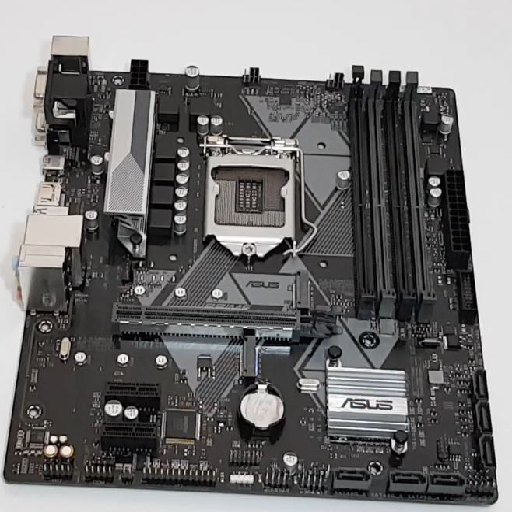CPU: (202, 134, 298, 258)
GPU: (111, 304, 345, 335)
MOTHERBOARD: (4, 64, 498, 503)
RAM: (349, 65, 437, 323)
SSD: (238, 339, 263, 381), (292, 271, 315, 310)
